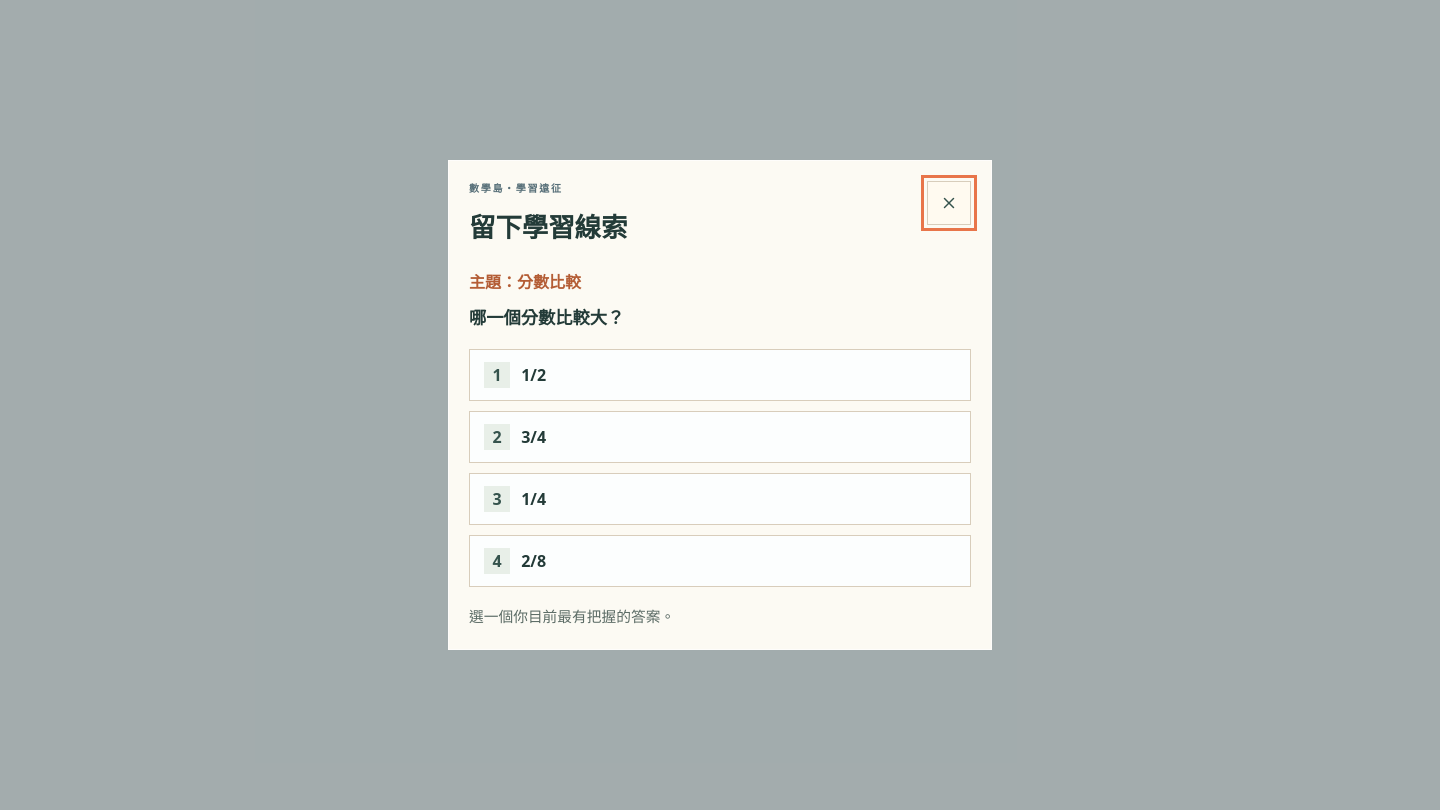
Test case: QuizModal › shows the island question and records a correct answer with the RPG reward
Expected: the dialog "留下學習線索" shows "哪一個分數比較大？", [469,306,624,329]
Click the button named "選項 2：3/4" at (497, 437), box [469,411,971,463]
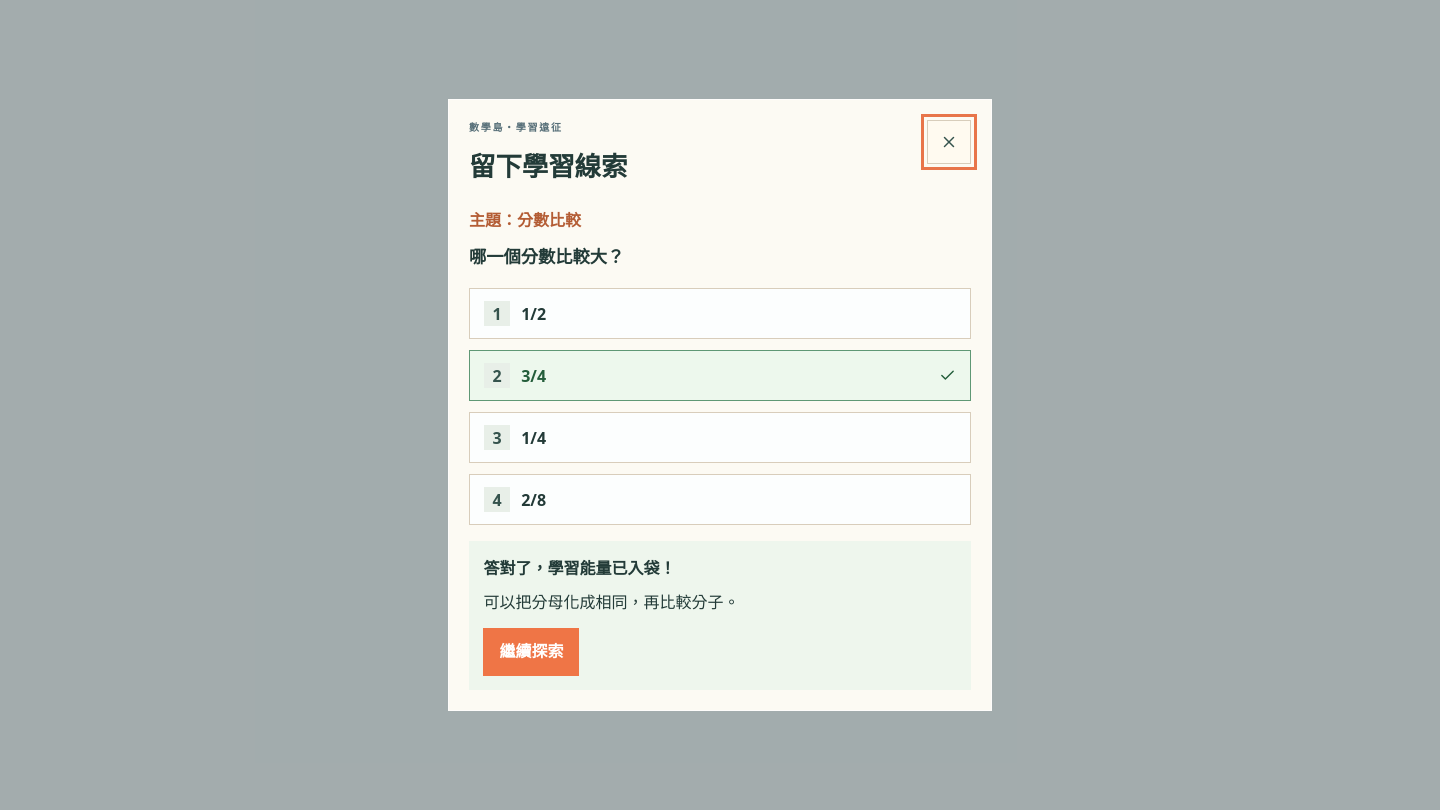
Expected: the message shows "答對了", [483,557,675,579]
